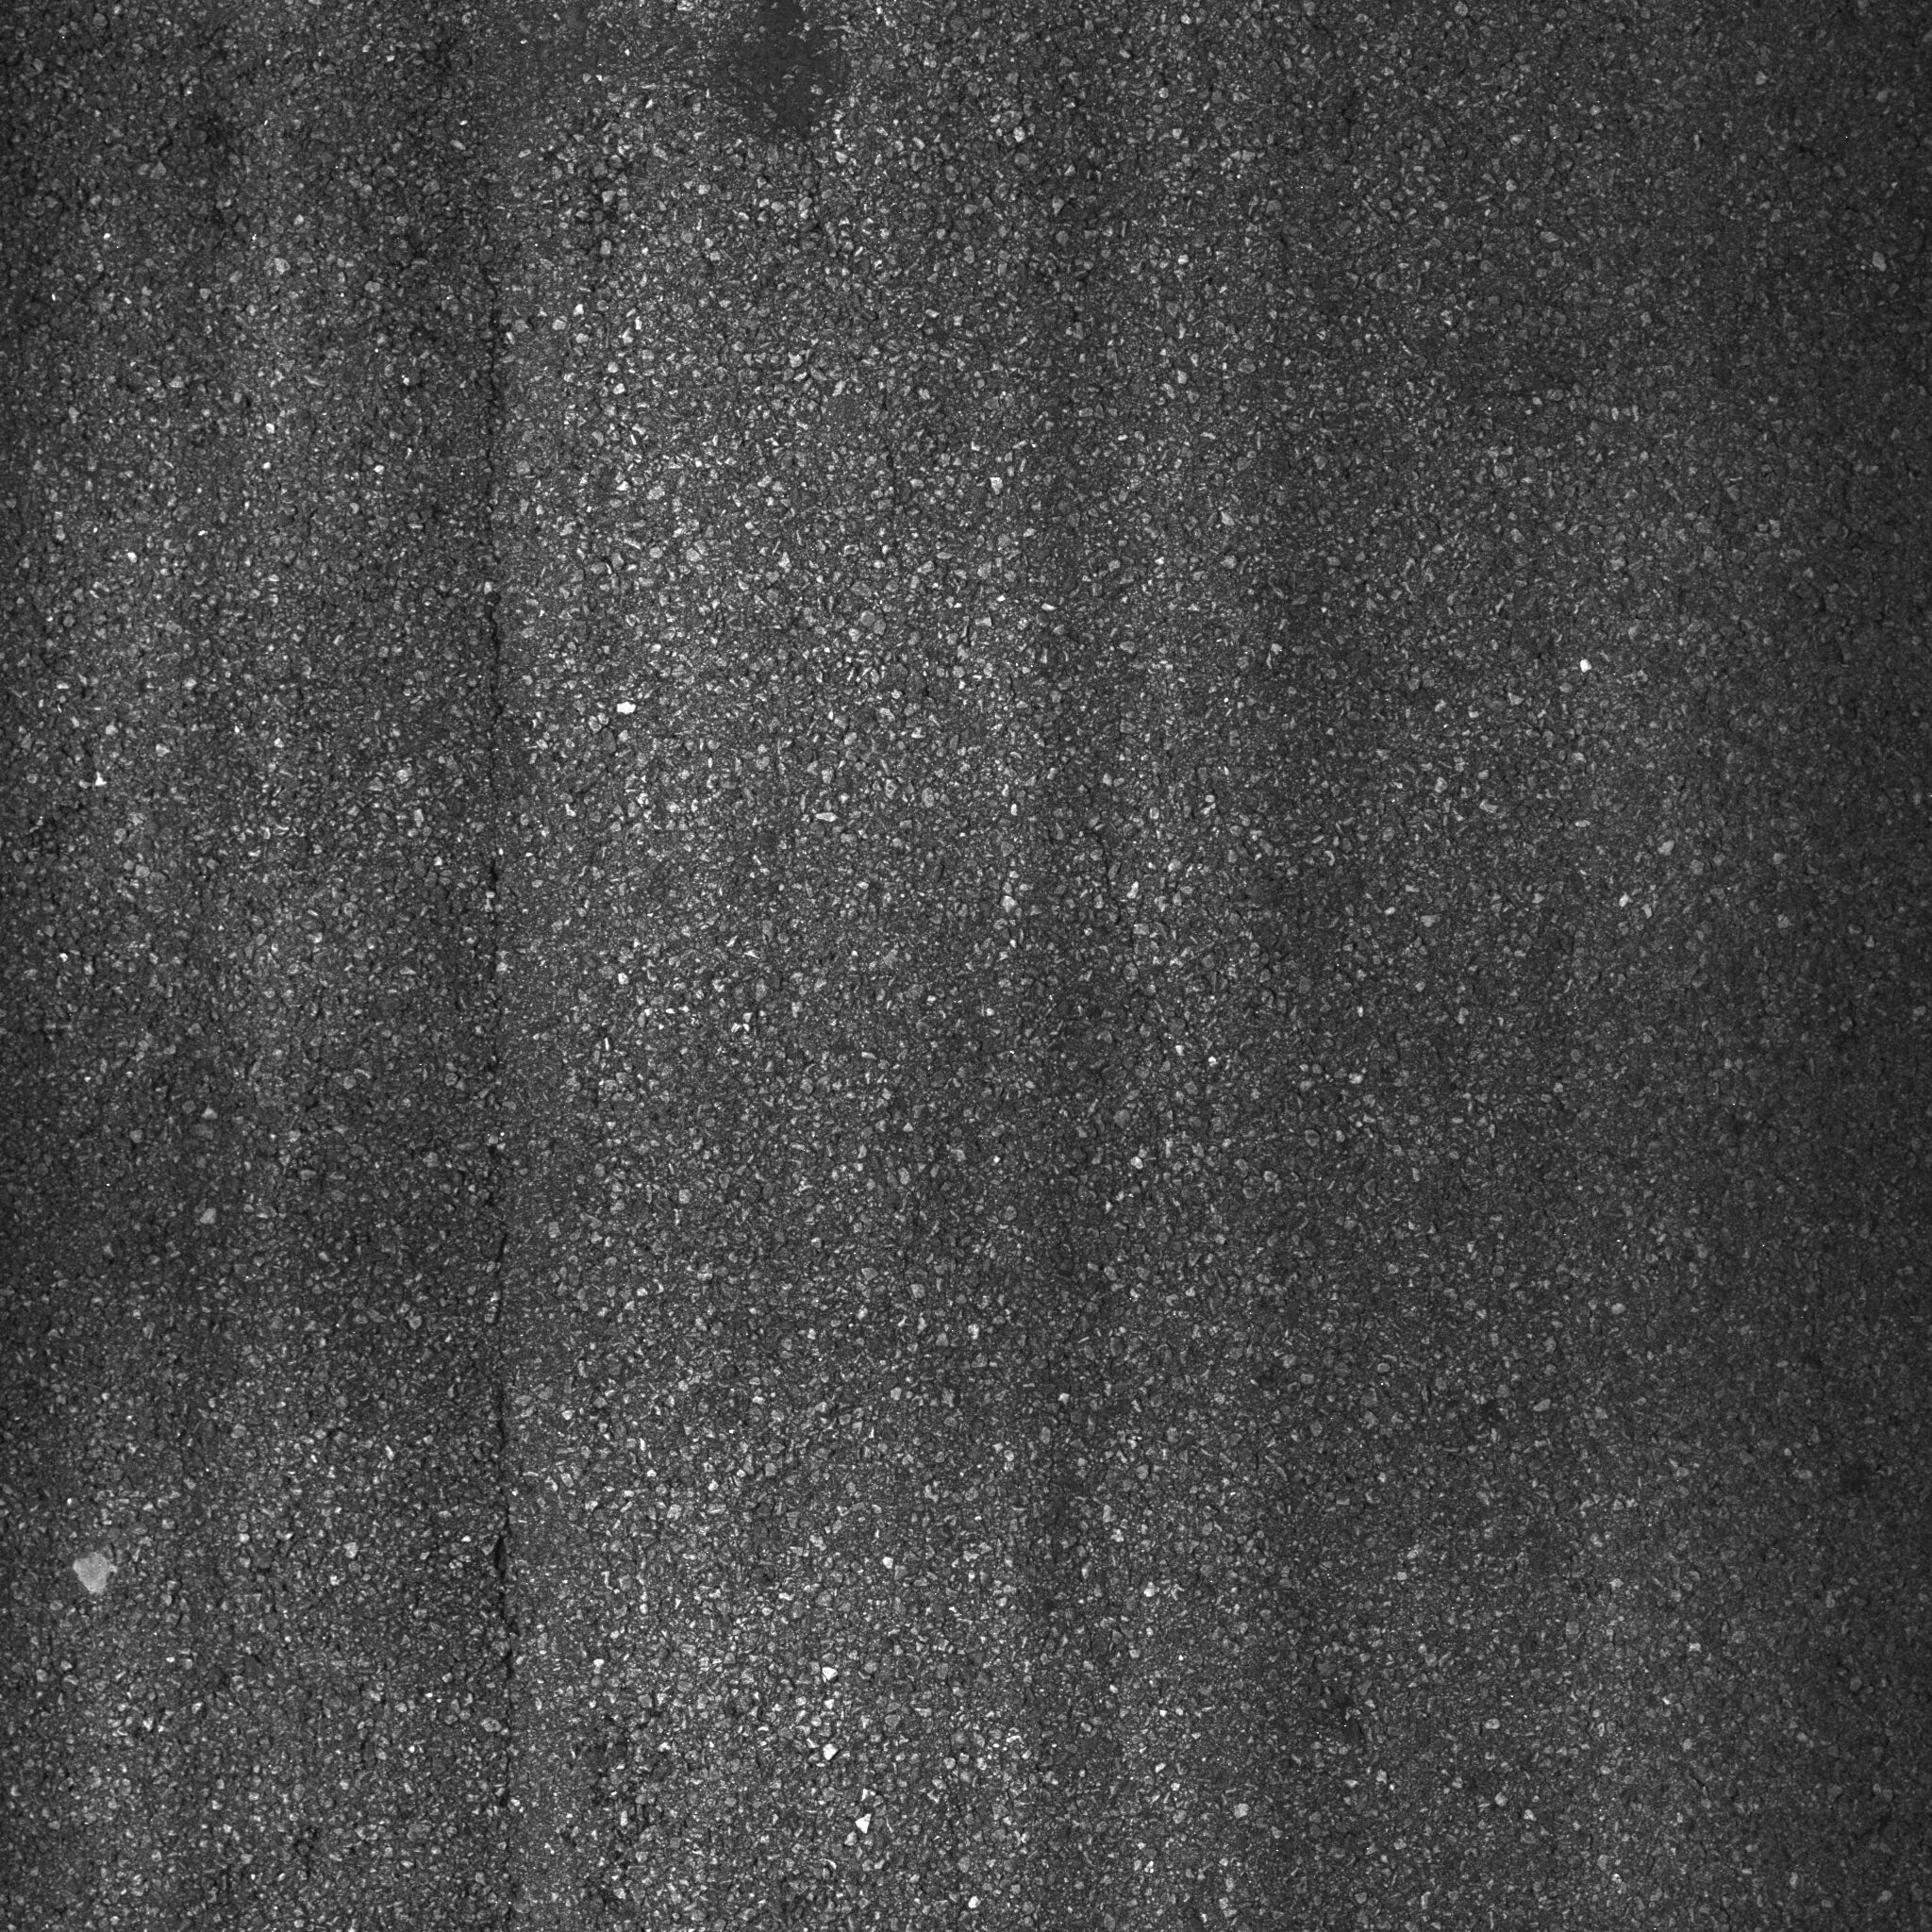longitudinal: (414, 127, 614, 1897)
